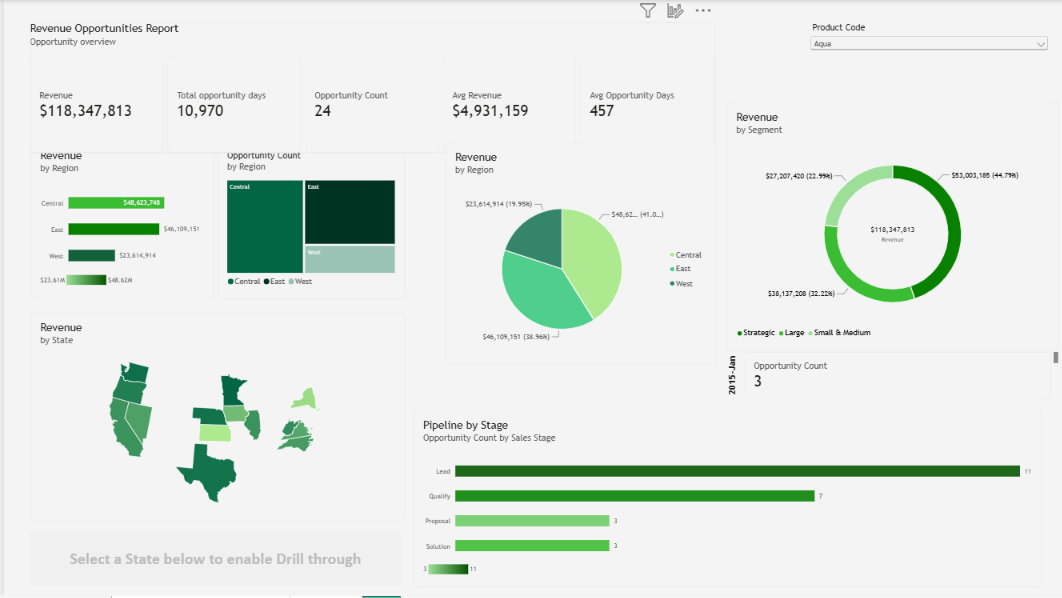

The page's visual inventory and layout, read from the dashboard file:
{"tool":"powerbi","page":{"name":"Opportunity Overview","canvas":[1920,1080],"ordinal":0},"visuals":[{"type":"slicer","fields":{"Values":["Product.Product Code"]},"box":[1454.3,39.1,439.1,115.2],"z":0},{"type":"treemap","fields":{"Group":["Account.Region"],"Values":["Fact.Opportunity Count"]},"box":[388.1,256.2,337.3,284.1],"z":1000},{"type":"shapeMap","fields":{"Category":["Account.State"],"Value":["Opportunities.Revenue"]},"box":[48.2,565.6,677.2,377.9],"z":2000},{"type":"barChart","title":"Pipeline by Stage","fields":{"Category":["SalesStage.Sales Stage"],"Y":["Fact.Opportunity Count"]},"box":[741.3,741.3,1134.8,321.1],"z":3000},{"type":"barChart","fields":{"Category":["Account.Region","Account.State"],"Y":["Fact.Revenue"]},"box":[48.1,255.8,331.4,285],"z":4000},{"type":"actionButton","box":[47.8,960.9,671.7,100],"z":5000},{"type":"cardVisual","title":"Revenue Opportunities Report","fields":{"Data":["Opportunities.Revenue","Calculations.Total opportunity days","Opportunities.Opportunity Count","Calculations.Avg Revenue","Calculations.Avg Opportunity Days"]},"box":[47.8,39.1,1241.3,237],"z":6000},{"type":"donutChart","fields":{"Category":["Account.Segment"],"Y":["Fact.Revenue"]},"box":[1308.7,184.8,600,450],"z":7000},{"type":"cardVisual","fields":{"Data":["Calculations.Opportunity Count"],"Rows":["Calendar.Year Month"]},"box":[1308.7,637,599.7,92.7],"z":8000},{"type":"pieChart","fields":{"Category":["Account.Region"],"Y":["Calculations.Revenue"]},"box":[800,256.5,489.1,402.2],"z":8001}]}

Visuals, with their boxes in screenshot pixels (x1, y1, x2, y2), scaled from the page's 1920x1080 canvas onto the 1062x598 screenshot:
slicer - Product.Product Code: <box>804,22,1047,85</box>
treemap - Account.Region x Fact.Opportunity Count: <box>215,142,401,299</box>
shapeMap - Account.State x Opportunities.Revenue: <box>27,313,401,522</box>
"Pipeline by Stage" barChart: <box>410,410,1038,588</box>
barChart - Account.Region x Account.State: <box>27,142,210,299</box>
actionButton: <box>26,532,398,587</box>
"Revenue Opportunities Report" cardVisual: <box>26,22,713,153</box>
donutChart - Account.Segment x Fact.Revenue: <box>724,102,1056,351</box>
cardVisual - Calculations.Opportunity Count x Calendar.Year Month: <box>724,353,1056,404</box>
pieChart - Account.Region x Calculations.Revenue: <box>442,142,713,365</box>
